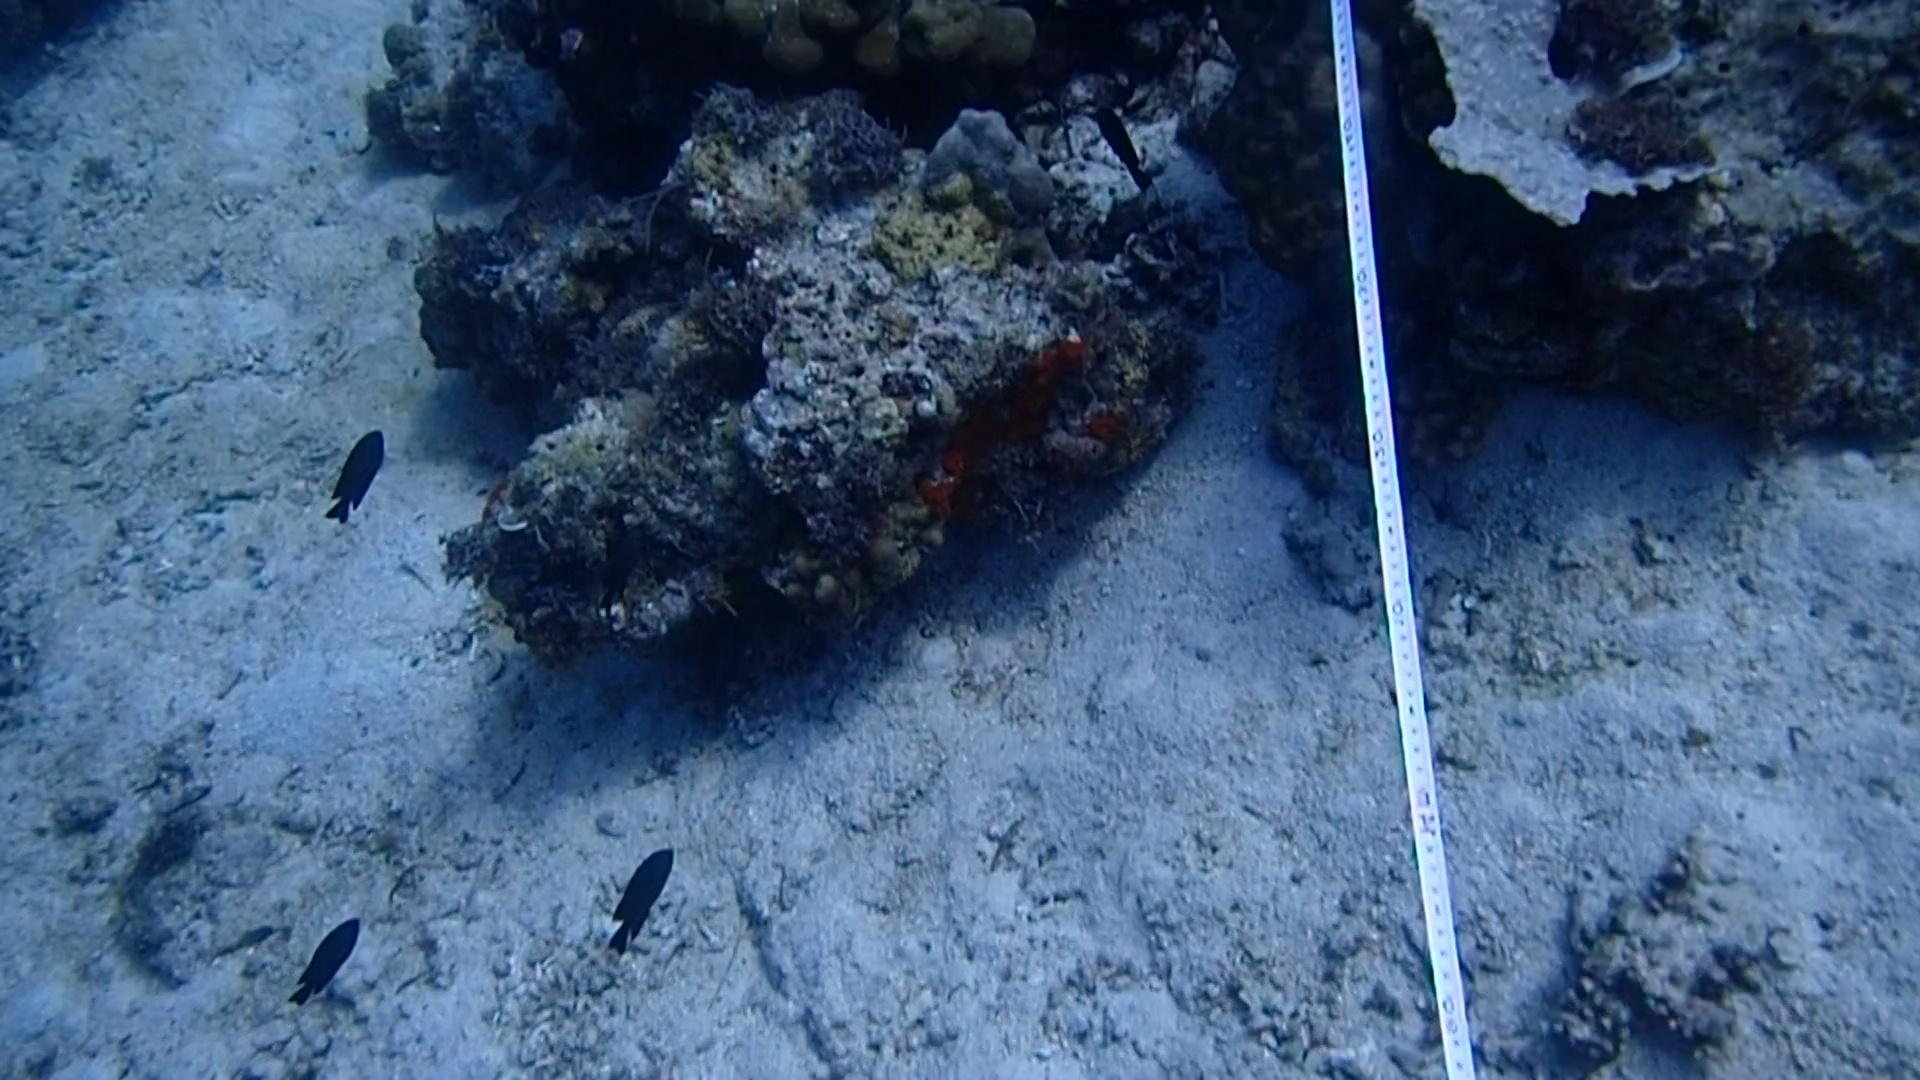Dark Fish: (593, 841, 690, 961), (310, 407, 398, 530), (287, 906, 373, 1025), (1084, 92, 1163, 193)
